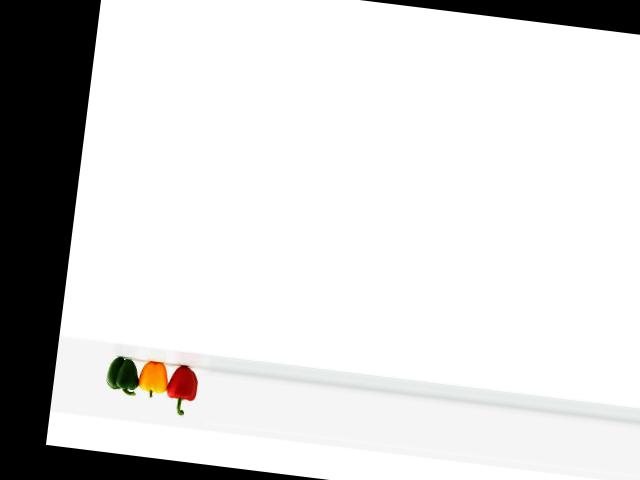bell_pepper: (160, 358, 209, 421)
